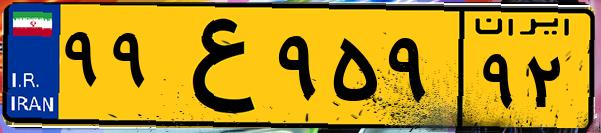2: (525, 38, 570, 115)
5: (330, 28, 385, 110)
9: (270, 28, 330, 110), (385, 28, 445, 110), (57, 26, 110, 100), (475, 38, 525, 113), (110, 28, 158, 98)
ع: (158, 12, 270, 120)
